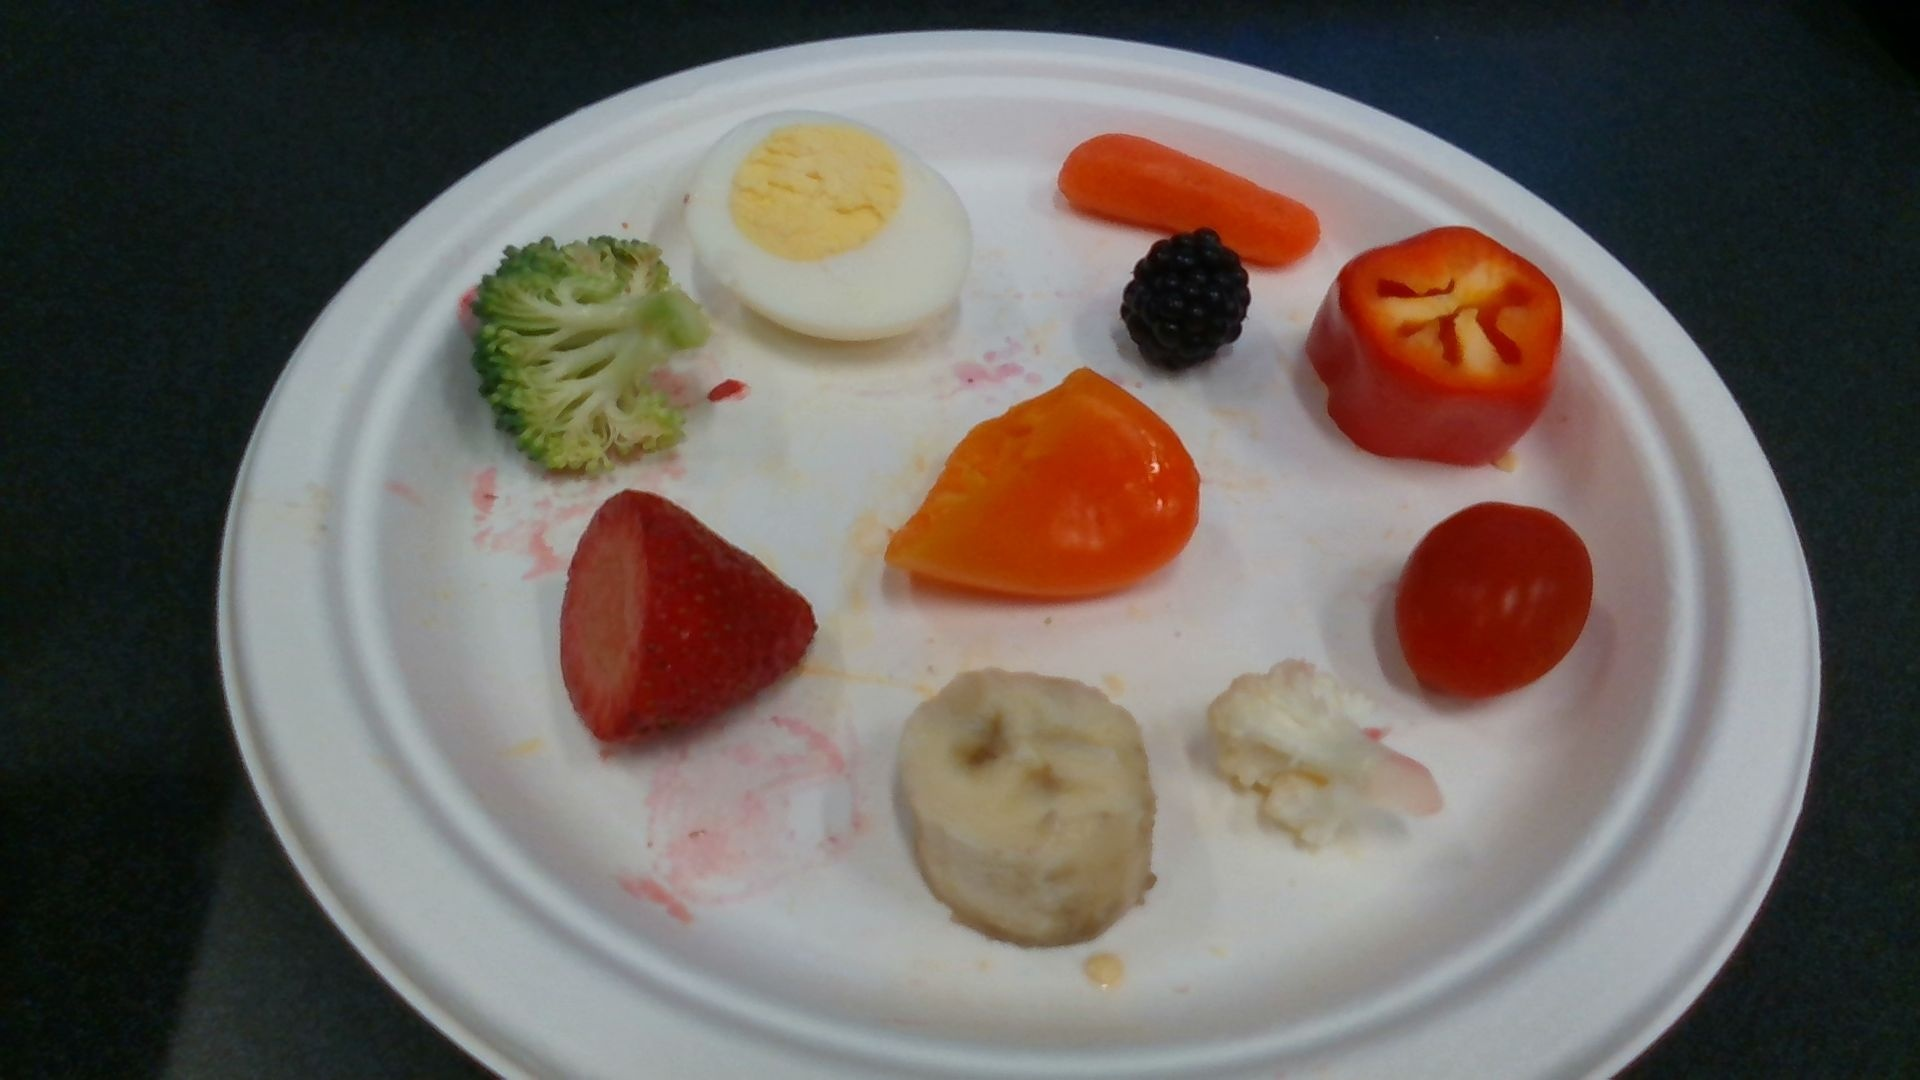banana: (905, 671, 1149, 942)
bell_pepper: (885, 371, 1199, 595), (1309, 225, 1565, 465)
blackberry: (1122, 229, 1249, 365)
broccoli: (473, 237, 709, 469)
carrot: (1060, 135, 1319, 268)
cauliflower: (1207, 659, 1443, 848)
cherry_tomato: (1399, 505, 1594, 702)
egg: (688, 113, 972, 342)
strawberry: (559, 491, 815, 740)
